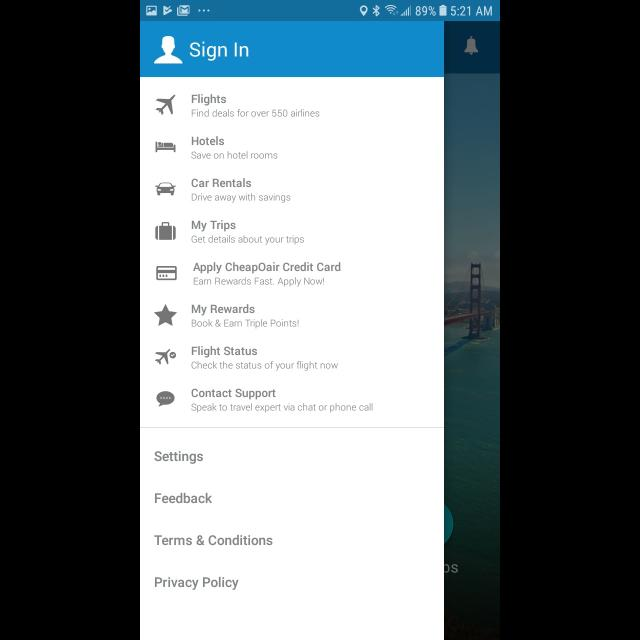icon: (154, 36, 183, 64), (154, 304, 178, 326), (156, 222, 177, 240), (156, 266, 178, 282), (157, 391, 176, 407)
image: (156, 94, 176, 116), (155, 349, 177, 365), (156, 182, 177, 195), (156, 142, 177, 152)
panel: (140, 22, 444, 640)
text: (192, 403, 372, 413), (193, 262, 341, 274), (192, 361, 338, 371), (154, 534, 274, 546), (194, 277, 324, 287), (190, 42, 250, 62), (155, 577, 239, 591), (192, 235, 304, 245), (192, 319, 300, 329), (192, 109, 320, 117), (192, 193, 290, 203), (192, 388, 276, 399), (191, 346, 257, 358), (192, 304, 255, 316), (192, 151, 278, 159), (154, 451, 203, 465), (156, 492, 212, 503), (192, 178, 252, 188), (192, 220, 236, 232), (192, 94, 226, 106), (192, 136, 224, 146)
uppertaskbar: (140, 1, 500, 22)
